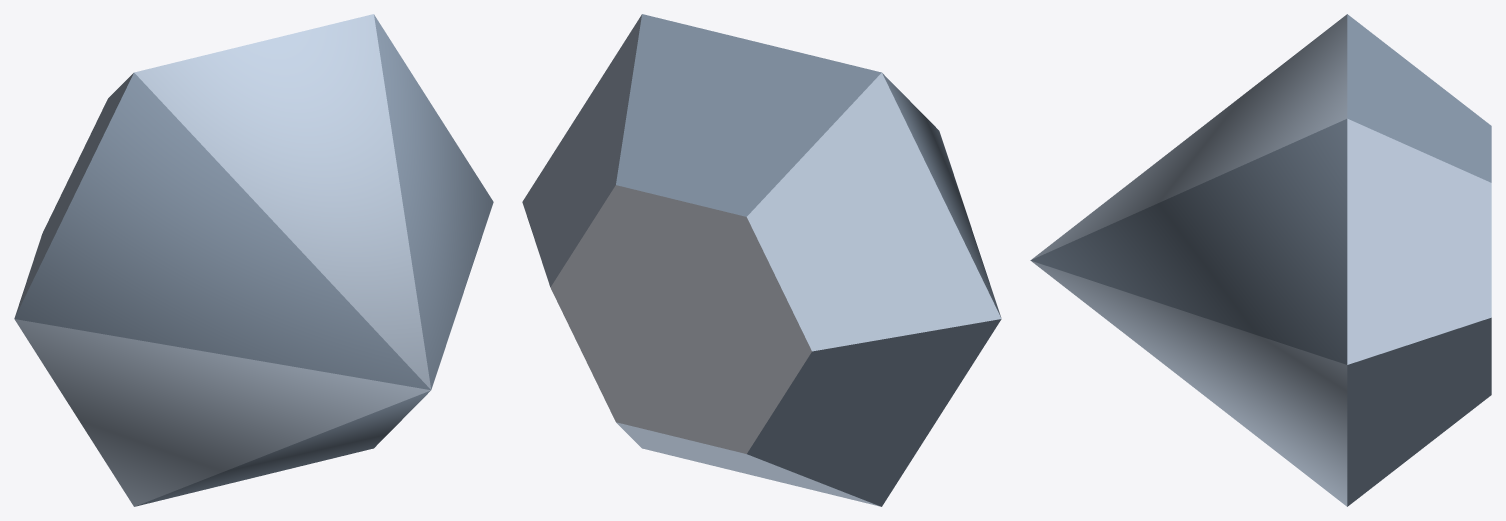
Rendered from Jewel_D.fbx.
3 views of the same model, side by side, from view 1: azimuth 30°, elevation 25°; view 2: azimuth 150°, elevation 25°; view 3: azimuth 270°, elevation 25° (orthographic). The views are drawn at different scales.
Parts seen in each view (by area): view 1: Jewel_D; view 2: Jewel_D; view 3: Jewel_D.
Boxes of the visible parts, x1,y1,x2,y2 form: Jewel_D: [14, 14, 493, 506]; Jewel_D: [522, 14, 1001, 506]; Jewel_D: [1030, 14, 1491, 506].
Bounding box in the file's own units: 0.2503 × 0.2168 × 0.2333.
